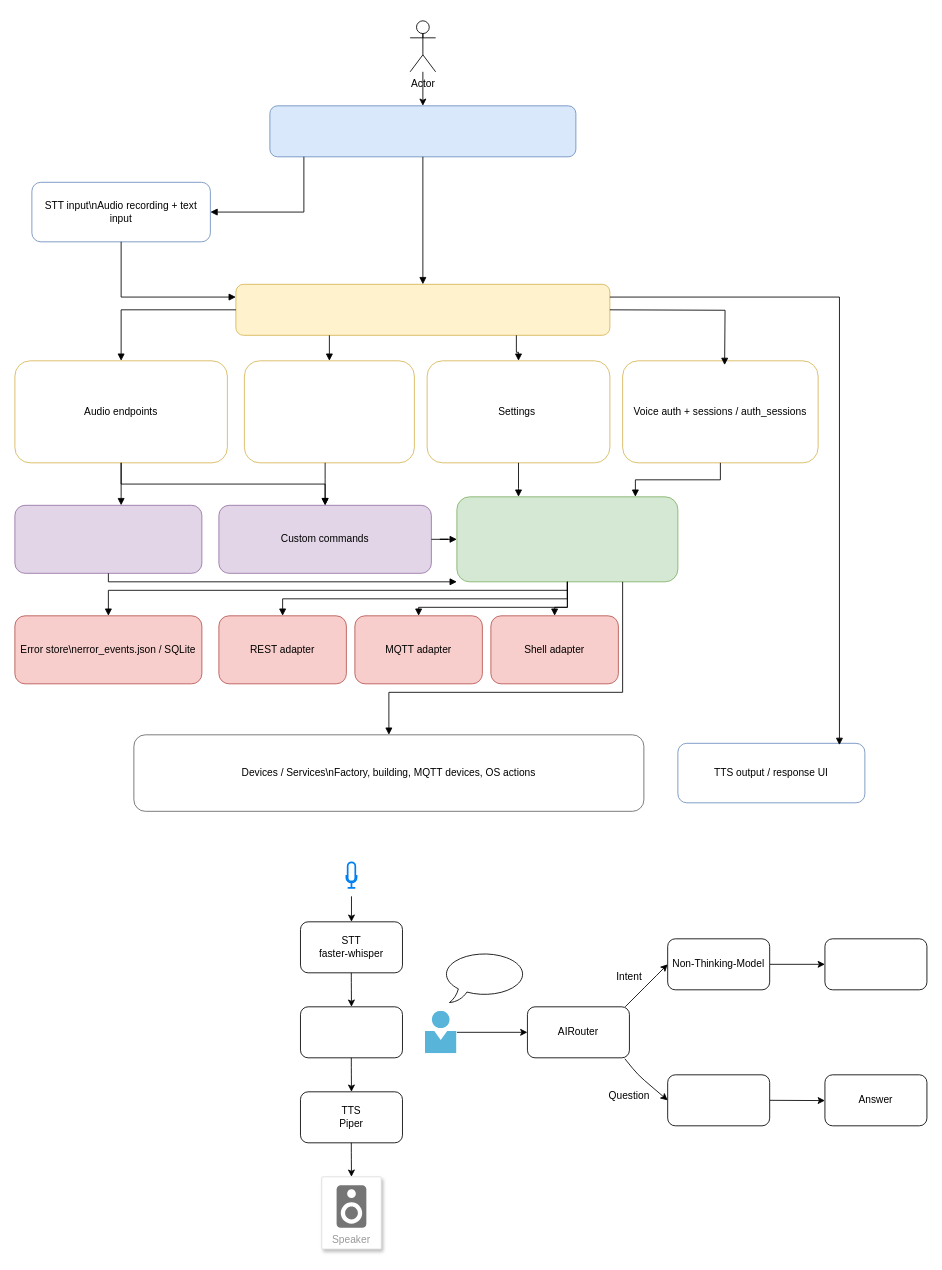
The diagram is 942 pixels wide and 1270 high, and some of its shapes have lost their labels. Here are the shapes that lost their labels. From the top down, the centre of each, then its label:
(422,131): Frontend (React / Vite)
(422,309): FastAPI backend
(329,411): AI Router
(108,538): NLU
(567,539): Command Dispatcher
(484,977): Speeking
(875,964): Intent Dispatcher
(351,1032): NLU AIRouter
(718,1100): Thinking-Model
